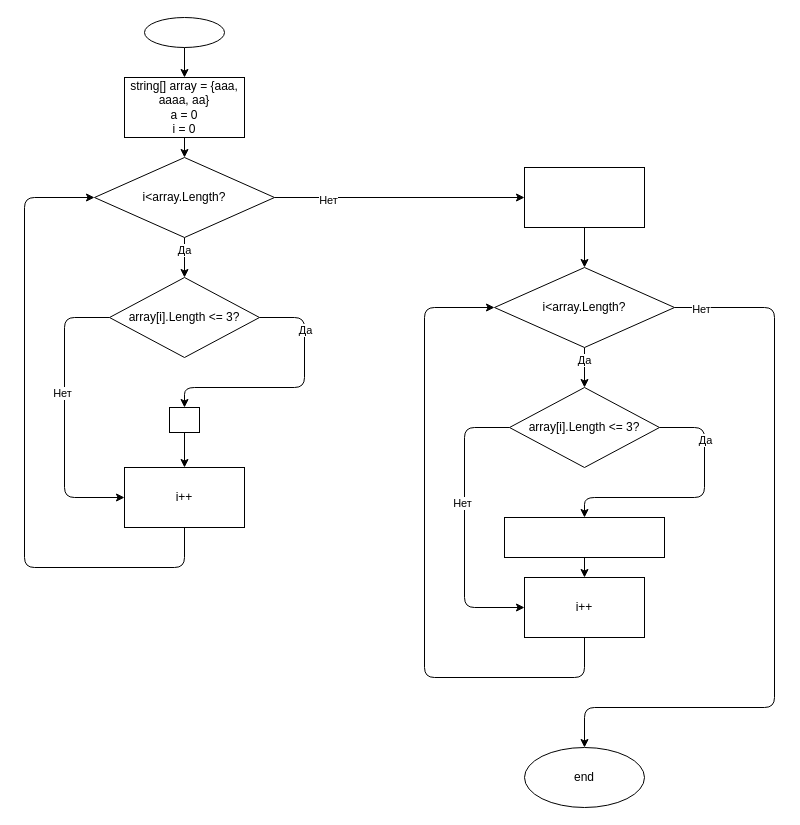
Image size: 800x825. Some labels were removed from this diagram. Here are the shapes that lost their labels. From the top down, the centre of each, then its label:
At point 184,32: "start".
At point 584,197: "string[a] result a = -1 i = 0".
At point 184,419: "a++".
At point 584,537: "a++ result[a] = array[i]".
